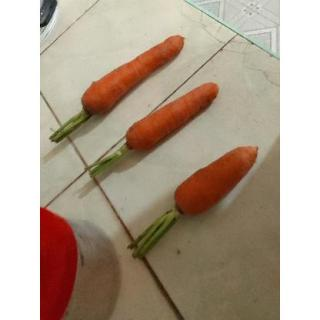Wortel: (41, 33, 275, 267)
